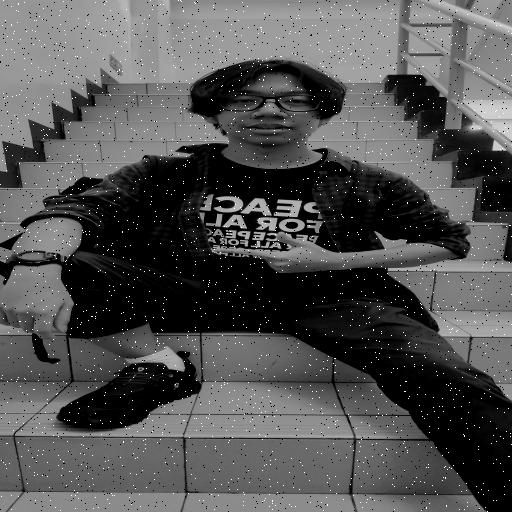next: (204, 228, 357, 282)
